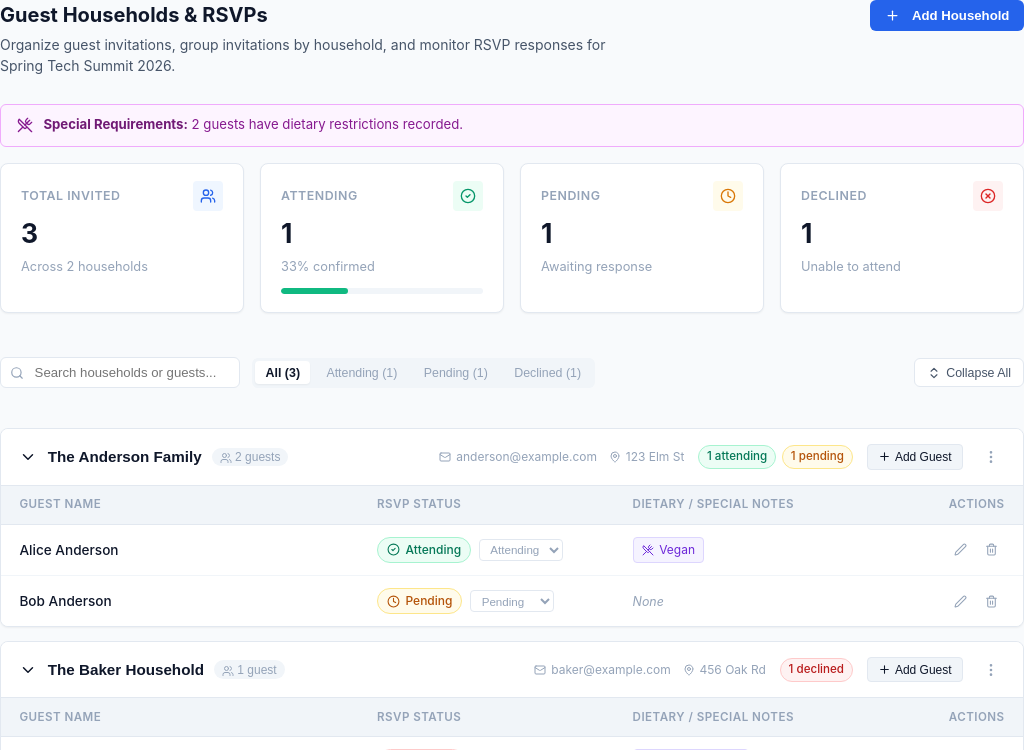
Test: EventGuestsTab Household & Guest Management (Sub-Task 3.5.2) › filters by RSVP status buttons
Note: Click "Attending" filter button
Click the button "Attending (1)" at (362, 373), box x1=316 y1=361 x2=408 y2=384
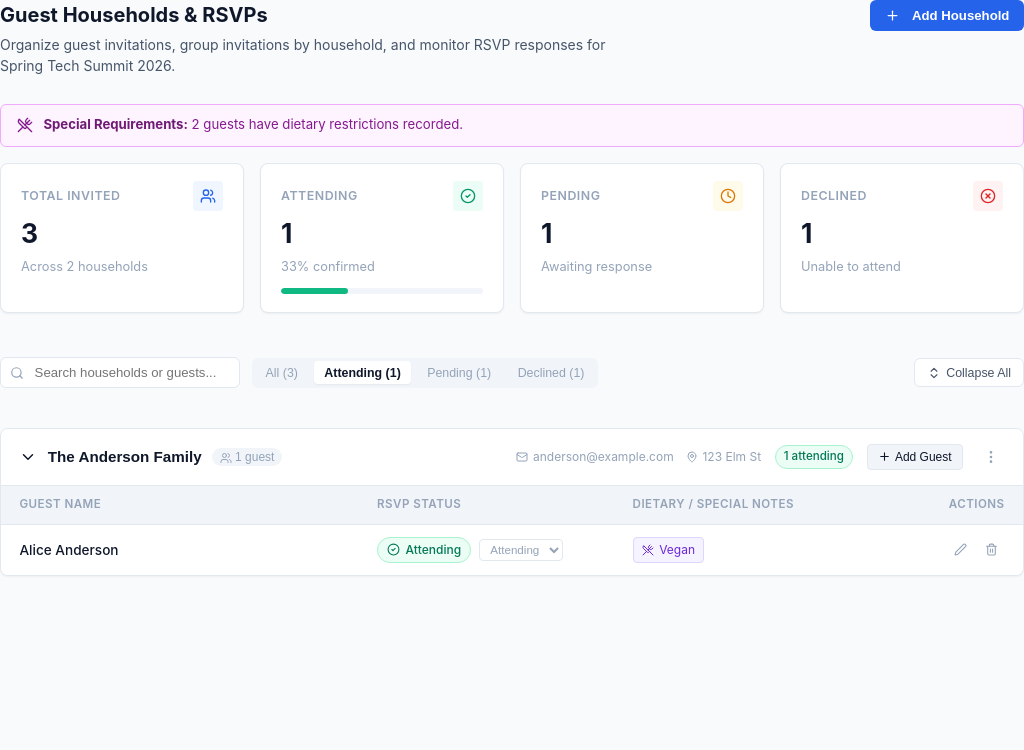
Check: the text "Alice Anderson" is shown, box x1=19 y1=542 x2=118 y2=558
Check: the text "Bob Anderson" is gone
